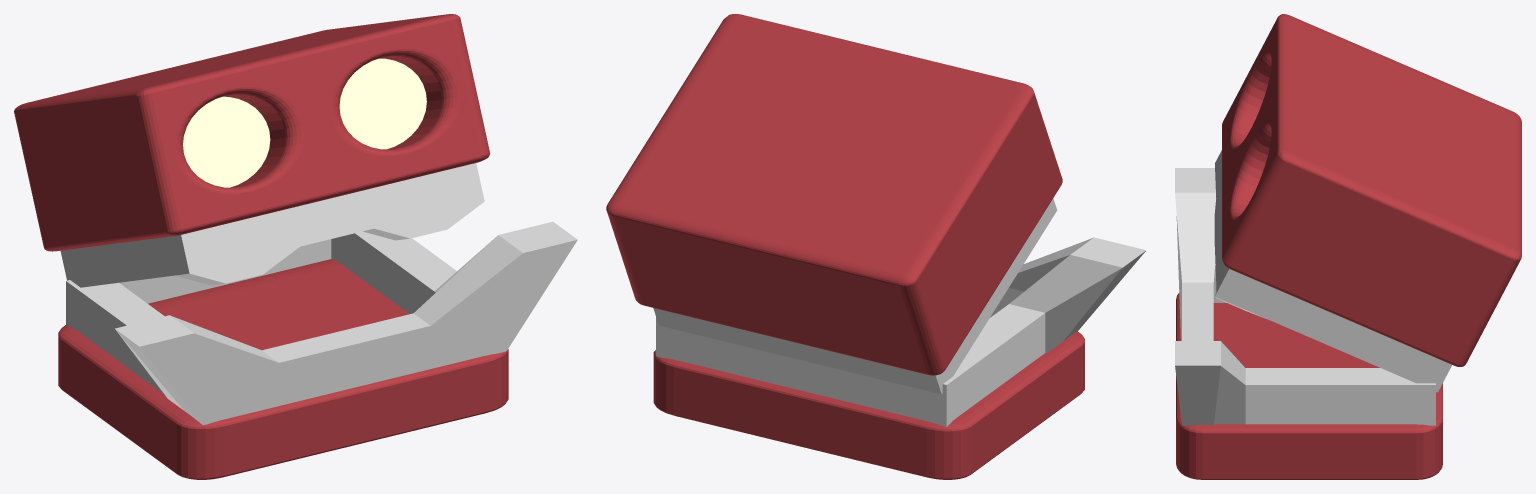
3 views of the same model, side by side, from view 1: azimuth 30°, elevation 25°; view 2: azimuth 150°, elevation 25°; view 3: azimuth 270°, elevation 25° (orthographic). The views are drawn at different scales.
Visible parts, largest first — view 1: Cube, Cube.003, Cube.002, Cube.004, Cube.001; view 2: Cube, Cube.002, Cube.003, Cube.004; view 3: Cube, Cube.003, Cube.002, Cube.004.
Part boxes in pixels (x1,y1,x2,y2): Cube: (14, 14, 490, 251); Cube.003: (66, 221, 577, 425); Cube.002: (58, 259, 508, 479); Cube.004: (60, 163, 484, 287); Cube.001: (183, 58, 426, 187); Cube: (606, 14, 1062, 375); Cube.002: (653, 331, 1084, 479); Cube.003: (656, 237, 1146, 426); Cube.004: (653, 198, 1057, 394); Cube: (1222, 14, 1521, 366); Cube.003: (1175, 168, 1435, 425); Cube.002: (1176, 293, 1442, 479); Cube.004: (1214, 150, 1451, 392).
Bounding box in the file's own units: 1395 × 1080 × 1034.
